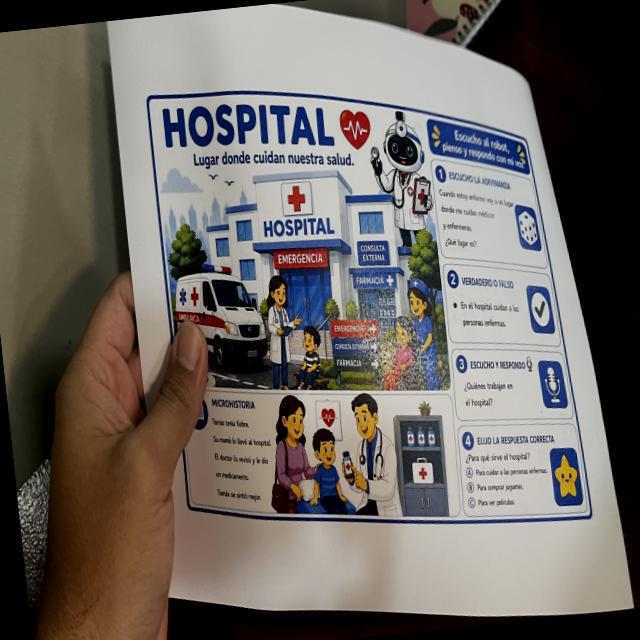hospital: (140, 48, 595, 566)
